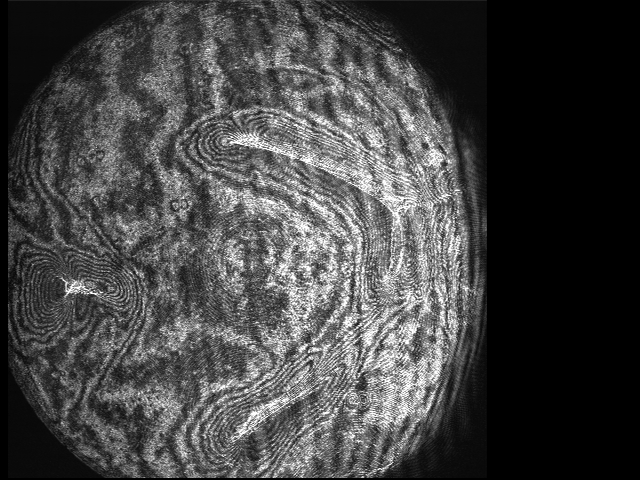plume: (8, 249, 138, 332)
